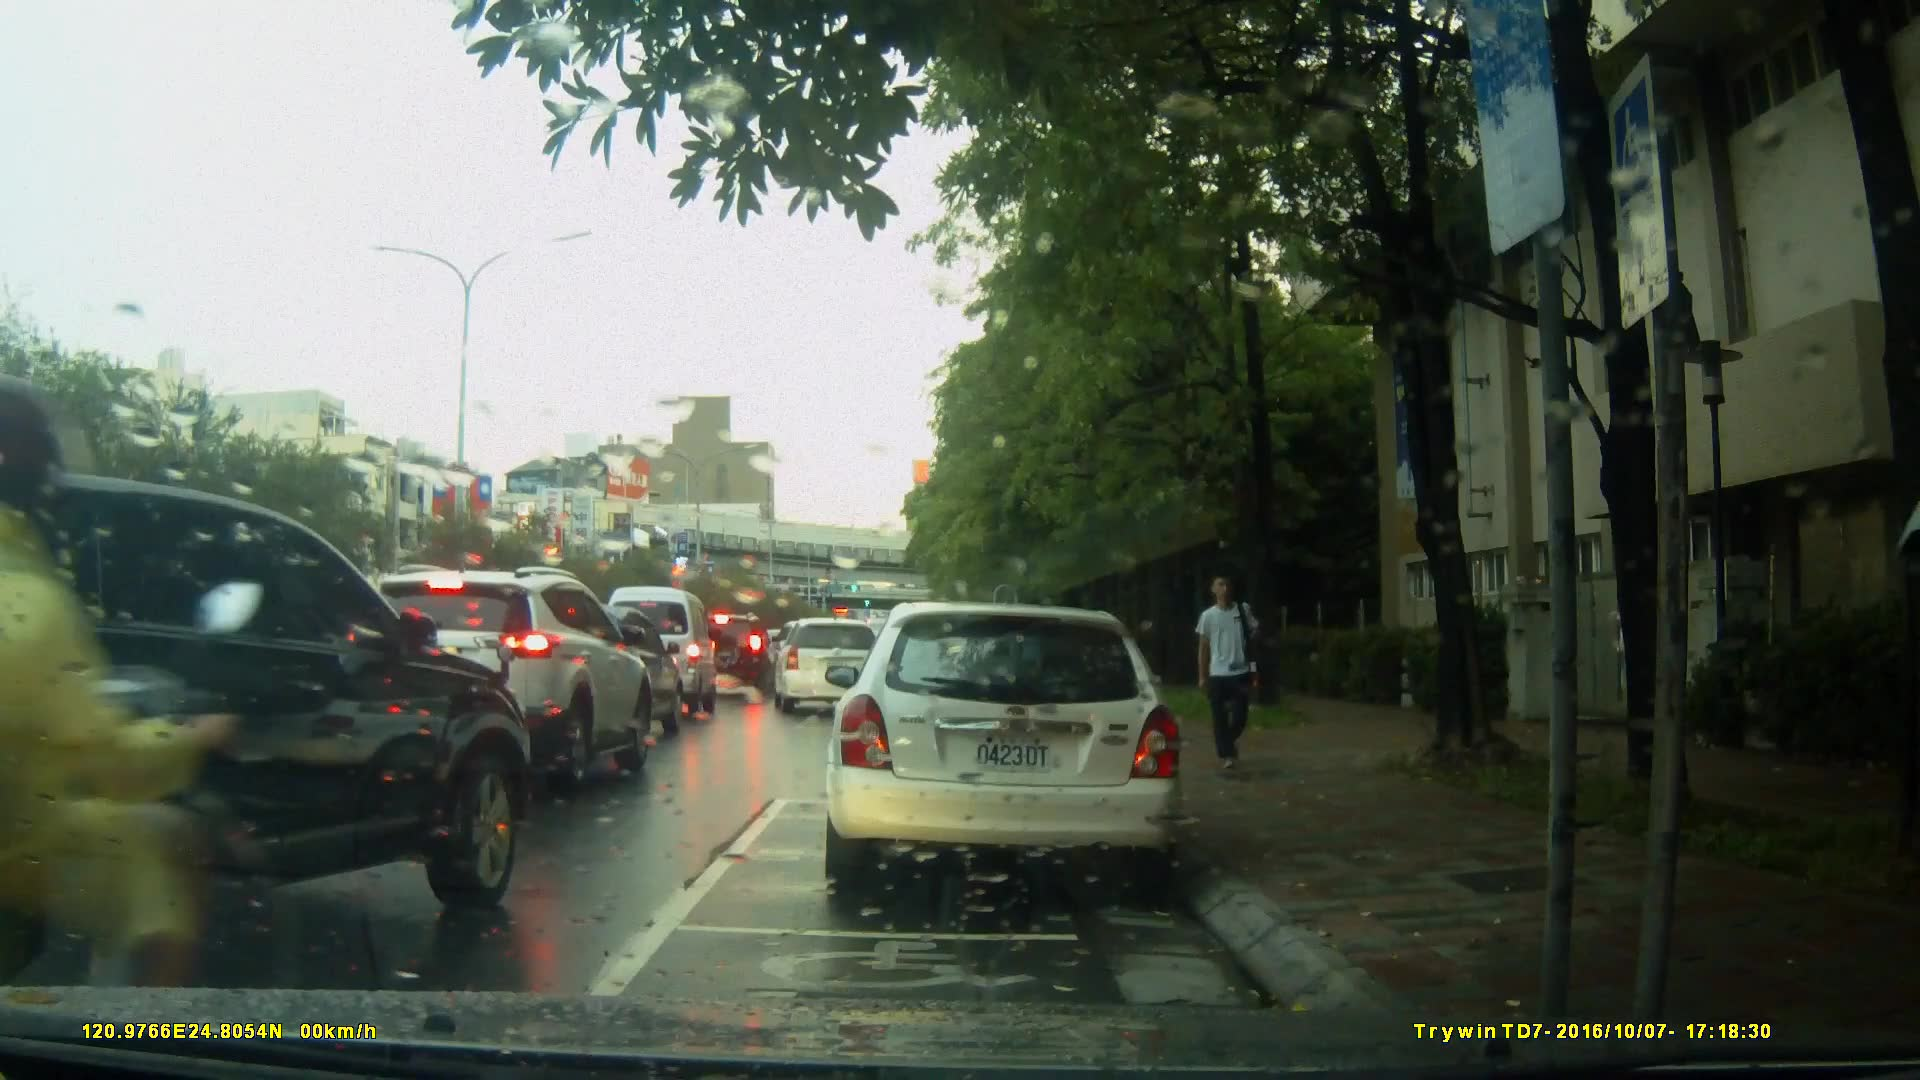pedestrian: (1192, 567, 1271, 787)
rider: (1, 390, 281, 1079)
vehicle: (1, 469, 532, 988), (820, 602, 1188, 898), (341, 563, 659, 791), (531, 603, 692, 737), (598, 585, 722, 722), (772, 617, 890, 715), (677, 611, 775, 703)
